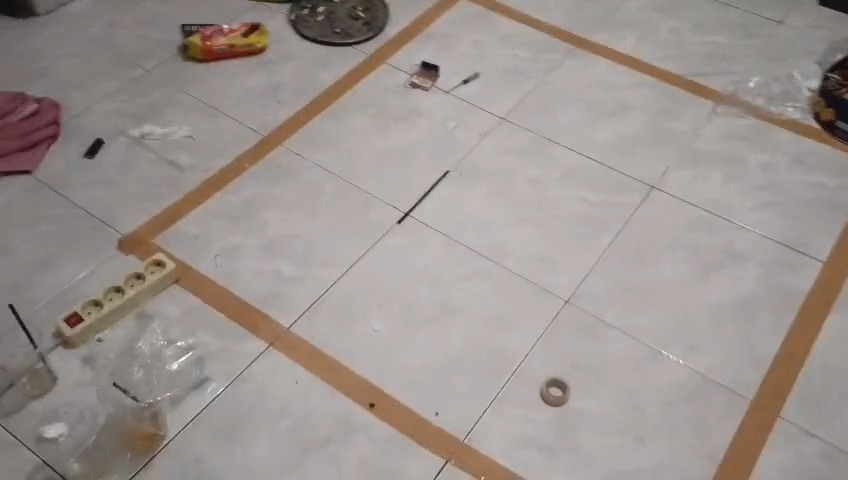floor marking: (119, 0, 459, 259), (177, 258, 517, 479), (468, 0, 847, 151), (713, 224, 847, 479)
